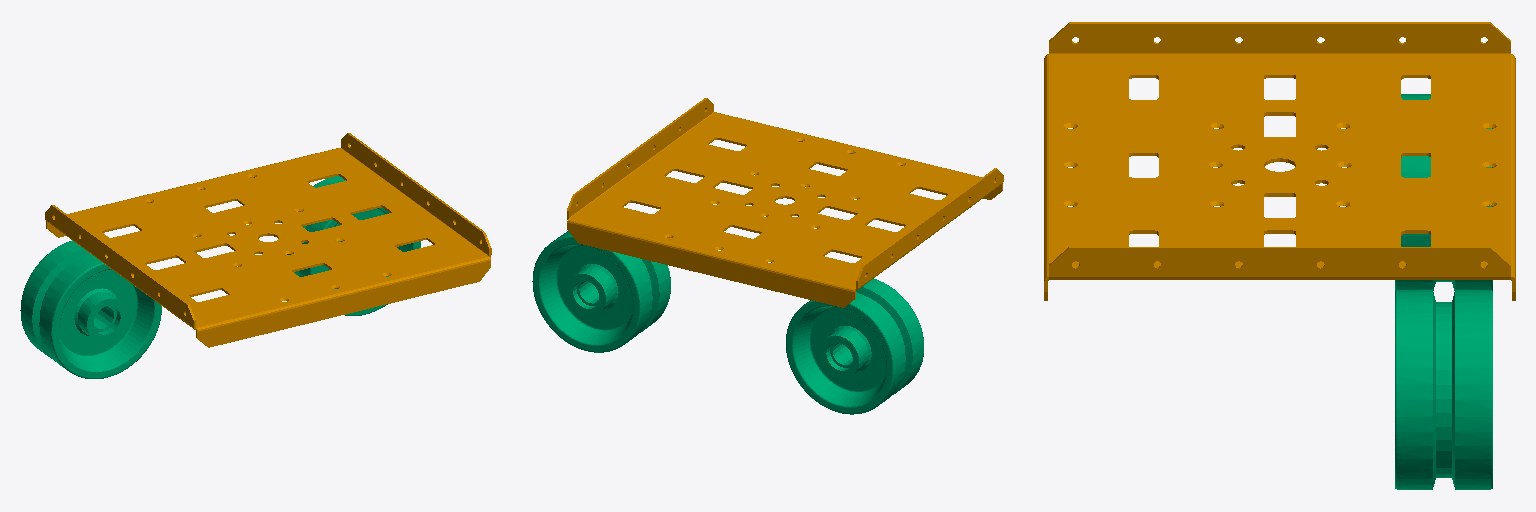
robot.urdf — zahlil:
<!-- -*- mode: XML -*- -->
<robot
  name="zahlil">
  <link
    name="base_link">
    <inertial>
      <origin
        xyz="1.41834141779237E-16 -0.0309379427641738 -2.88870373057917E-08"
        rpy="0 0 0" />
      <mass
        value="0.504170641673531" />
      <inertia
        ixx="0.00669504774857414"
        ixy="5.19887713221827E-19"
        ixz="-1.36872494453441E-19"
        iyy="0.0149074707016974"
        iyz="-1.85469719531668E-10"
        izz="0.00826590878423466" />
    </inertial>
    <visual>
      <origin
        xyz="0 0 0"
        rpy="0 0 0" />
      <geometry>
        <mesh
          filename="package://zahlil/robot/meshes/base_link.STL" />
      </geometry>
      <material
        name="">
        <color
          rgba="0.843137254901961 0.564705882352941 0 1" />
      </material>
    </visual>
    <collision>
      <origin
        xyz="0 0 0"
        rpy="0 0 0" />
      <geometry>
        <mesh
          filename="package://zahlil/robot/meshes/base_link.STL" />
      </geometry>
    </collision>
  </link>
  <link
    name="back_right_link">
    <inertial>
      <origin
        xyz="-2.77555756156289E-17 0 0"
        rpy="0 0 0" />
      <mass
        value="0.778889674512674" />
      <inertia
        ixx="0.00154978310190932"
        ixy="1.15305889248938E-19"
        ixz="1.65075964416438E-20"
        iyy="0.00154978310190932"
        iyz="6.60473940621541E-20"
        izz="0.00255442138810937" />
    </inertial>
    <visual>
      <origin
        xyz="0 0 0"
        rpy="0 0 0" />
      <geometry>
        <mesh
          filename="package://zahlil/robot/meshes/back_right_link.STL" />
      </geometry>
      <material
        name="">
        <color
          rgba="0 0.686274509803922 0.470588235294118 1" />
      </material>
    </visual>

    <collision>
      <origin
        xyz="0 0 0"
        rpy="0 0 0" />
      <geometry>
    <cylinder length="0.09" radius="0.073"
          />
      </geometry>
    </collision>


<collision>
      <origin
        xyz="0 0 0.068"
        rpy="0 0 0" />
      <geometry>
        <cylinder length="0.02" radius="0.078" 
          />
      </geometry>
    </collision>
<collision>
      <origin
        xyz="0 0 -0.068"
        rpy="0 0 0" />
      <geometry>
        <cylinder length="0.02" radius="0.078" 
          />
      </geometry>
    </collision>

  </link>
  <joint
    name="back_right_joint"
    type="continuous">
    <origin
      xyz="0.183330594320853 0.124629742767508 -0.132179085894852"
      rpy="1.5707963267949 0 0" />
    <parent
      link="base_link" />
    <child
      link="back_right_link" />
    <axis
      xyz="0 0 -1" />
  </joint>
  <link
    name="back_left_link">
    <inertial>
      <origin
        xyz="0 0 0"
        rpy="0 0 0" />
      <mass
        value="0.778889674512674" />
      <inertia
        ixx="0.00154978310190932"
        ixy="1.15305889248939E-19"
        ixz="5.35652878840196E-20"
        iyy="0.00154978310190932"
        iyz="6.60473940621541E-20"
        izz="0.00255442138810937" />
    </inertial>
    <visual>
      <origin
        xyz="0 0 0"
        rpy="0 0 0" />
      <geometry>
        <mesh
          filename="package://zahlil/robot/meshes/back_left_link.STL" />
      </geometry>
      <material
        name="">
        <color
          rgba="0 0.686274509803922 0.470588235294118 1" />
      </material>
    </visual>



     <collision>
      <origin
        xyz="0 0 0"
        rpy="0 0 0" />
      <geometry>
    <cylinder length="0.09" radius="0.073"
          />
      </geometry>
    </collision>


<collision>
      <origin
        xyz="0 0 0.068"
        rpy="0 0 0" />
      <geometry>
        <cylinder length="0.02" radius="0.078" 
          />
      </geometry>
    </collision>
<collision>


      <origin
        xyz="0 0 -0.068"
        rpy="0 0 0" />
      <geometry>
        <cylinder length="0.02" radius="0.078" 
          />
      </geometry>
    </collision>



  </link>
  <joint
    name="back_left_joint"
    type="continuous">
    <origin
      xyz="0.183330594320854 -0.124370257232491 -0.132203133252938"
      rpy="1.5707963267949 0 0" />
    <parent
      link="base_link" />
    <child
      link="back_left_link" />
    <axis
      xyz="0 0 -1" />
  </joint>
  <link
    name="front_right_link">
    <inertial>
      <origin
        xyz="-2.77555756156289E-17 0 -0.0375"
        rpy="0 0 0" />
      <mass
        value="0.778889674512675" />
      <inertia
        ixx="0.00154978310190932"
        ixy="1.15305889248939E-19"
        ixz="5.5329939857466E-20"
        iyy="0.00154978310190932"
        iyz="6.60473940621541E-20"
        izz="0.00255442138810937" />
    </inertial>
    <visual>
      <origin
        xyz="0 0 0"
        rpy="0 0 0" />
      <geometry>
        <mesh
          filename="package://zahlil/robot/meshes/front_righr_link.STL" />
      </geometry>
      <material
        name="">
        <color
          rgba="0 0.686274509803922 0.470588235294118 1" />
      </material>
    </visual>
    <collision>
      <origin
        xyz="0 0 0"
        rpy="0 0 0" />
      <geometry>

           <cylinder length="0.08" radius="0.073"
          />

      </geometry>
    </collision>


<collision>
      <origin
        xyz="0 0 0.048"
        rpy="0 0 0" />
      <geometry>
        <cylinder length="0.02" radius="0.078" 
          />
      </geometry>
    </collision>
<collision>
      <origin
        xyz="0 0 -0.088"
        rpy="0 0 0" />
      <geometry>
        <cylinder length="0.02" radius="0.078" 
          />
      </geometry>
    </collision>

  </link>
  <joint
    name="front_right_joint"
    type="continuous">
    <origin
      xyz="-0.169383430381515 0.087129742767508 -0.132179085894852"
      rpy="1.5707963267949 0 0" />
    <parent
      link="base_link" />
    <child
      link="front_right_link" />
    <axis
      xyz="0 0 -1" />
  </joint>
  <link
    name="front_left_link">
    <inertial>
      <origin
        xyz="0 0 -1.38777878078145E-17"
        rpy="0 0 0" />
      <mass
        value="0.778889674512674" />
      <inertia
        ixx="0.00154978310190932"
        ixy="1.15305889248939E-19"
        ixz="5.35652878840195E-20"
        iyy="0.00154978310190932"
        iyz="6.60473940621541E-20"
        izz="0.00255442138810937" />
    </inertial>
    <visual>
      <origin
        xyz="0 0 0"
        rpy="0 0 0" />
      <geometry>
        <mesh
          filename="package://zahlil/robot/meshes/front_left_link.STL" />
      </geometry>
      <material
        name="">
        <color
          rgba="0 0.686274509803922 0.470588235294118 1" />
      </material>
    </visual>
   




     <collision>
      <origin
        xyz="0 0 0"
        rpy="0 0 0" />
      <geometry>
    <cylinder length="0.09" radius="0.073"
          />
      </geometry>
    </collision>


<collision>
      <origin
        xyz="0 0 0.068"
        rpy="0 0 0" />
      <geometry>
        <cylinder length="0.02" radius="0.078" 
          />
      </geometry>
    </collision>
<collision>


      <origin
        xyz="0 0 -0.068"
        rpy="0 0 0" />
      <geometry>
        <cylinder length="0.02" radius="0.078" 
          />
      </geometry>
    </collision>



  </link>
  <joint
    name="front_left_joint"
    type="continuous">
    <origin
      xyz="-0.169383430381515 -0.124370257232491 -0.132203133252938"
      rpy="1.5707963267949 0 0" />
    <parent
      link="base_link" />
    <child
      link="front_left_link" />
    <axis
      xyz="0 0 -1" />
  </joint>

<!-- transmitions add  by Or -->
<transmission name="tran1">
    <type>transmission_interface/SimpleTransmission</type>
    <joint name="front_right_joint">
      <hardwareInterface>EffortJointInterface</hardwareInterface>
    </joint>
    <actuator name="motor1">
      <mechanicalReduction>1</mechanicalReduction>
    </actuator>
  </transmission>

<transmission name="tran2">
    <type>transmission_interface/SimpleTransmission</type>
    <joint name="front_left_joint">
      <hardwareInterface>EffortJointInterface</hardwareInterface>
    </joint>
    <actuator name="motor2">
      <mechanicalReduction>1</mechanicalReduction>
    </actuator>
  </transmission>
<!-- gazebo plugin and friction  add  by Or -->
  <gazebo>
    <plugin name="gazebo_ros_control" filename="libgazebo_ros_control.so">
      <robotNamespace>/zahlil</robotNamespace>
    </plugin>
  </gazebo>
  <gazebo reference="body">
    <mu1>100</mu1>
    <mu2>100</mu2>
    <selfCollide>true</selfCollide>
    <material>Gazebo/Wood</material>
  </gazebo>

  <gazebo reference="front_right_joint">
    <mu1>100</mu1>
    <mu2>100</mu2>
    <selfCollide>true</selfCollide>
    <material>Gazebo/Grey</material>
  </gazebo>

  <gazebo reference="front_left_joint">
    <mu1>1</mu1>
    <mu2>1</mu2>
    <selfCollide>true</selfCollide>
    <material>Gazebo/Grey</material>
  </gazebo>


</robot>

--- Render facts (derived) ---
3 views of the same robot in one strip: view 1: azimuth 30°, elevation 25°; view 2: azimuth 150°, elevation 25°; view 3: azimuth 270°, elevation 25° (orthographic).
Robot: zahlil — 5 links, 4 joints (4 continuous); root link base_link; default pose: every joint at zero.
Links seen in each view (by area): view 1: base_link, front_right_link, back_right_link; view 2: base_link, front_right_link, back_right_link; view 3: base_link, back_right_link, front_right_link.
Boxes of the visible links, left/top/right/bottom form: base_link: left=45, top=133, right=491, bottom=347; front_right_link: left=20, top=240, right=161, bottom=378; back_right_link: left=287, top=176, right=420, bottom=315; base_link: left=567, top=98, right=1003, bottom=307; front_right_link: left=786, top=279, right=923, bottom=414; back_right_link: left=532, top=231, right=670, bottom=352; base_link: left=1044, top=22, right=1515, bottom=300; back_right_link: left=1395, top=290, right=1492, bottom=489; front_right_link: left=1395, top=94, right=1492, bottom=290.
Size in the robot's own frame: 0.5042 by 0.358 by 0.2037 metres.
3 mesh visuals loaded from 5 distinct referenced files (3 binary STL); not drawn: 2 (reference not matched to a file when rendering).
